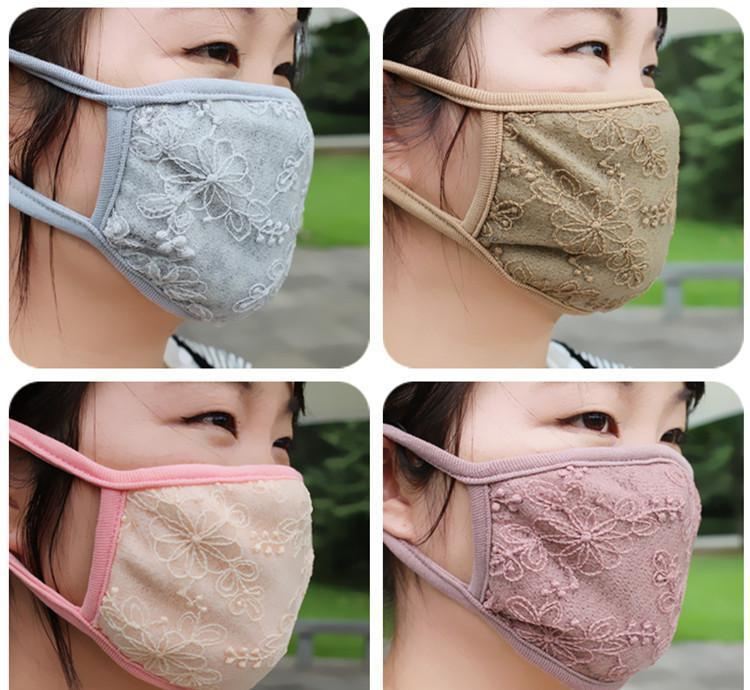OK: (415, 386, 702, 678), (417, 5, 693, 308), (48, 11, 318, 319), (56, 379, 317, 686)
